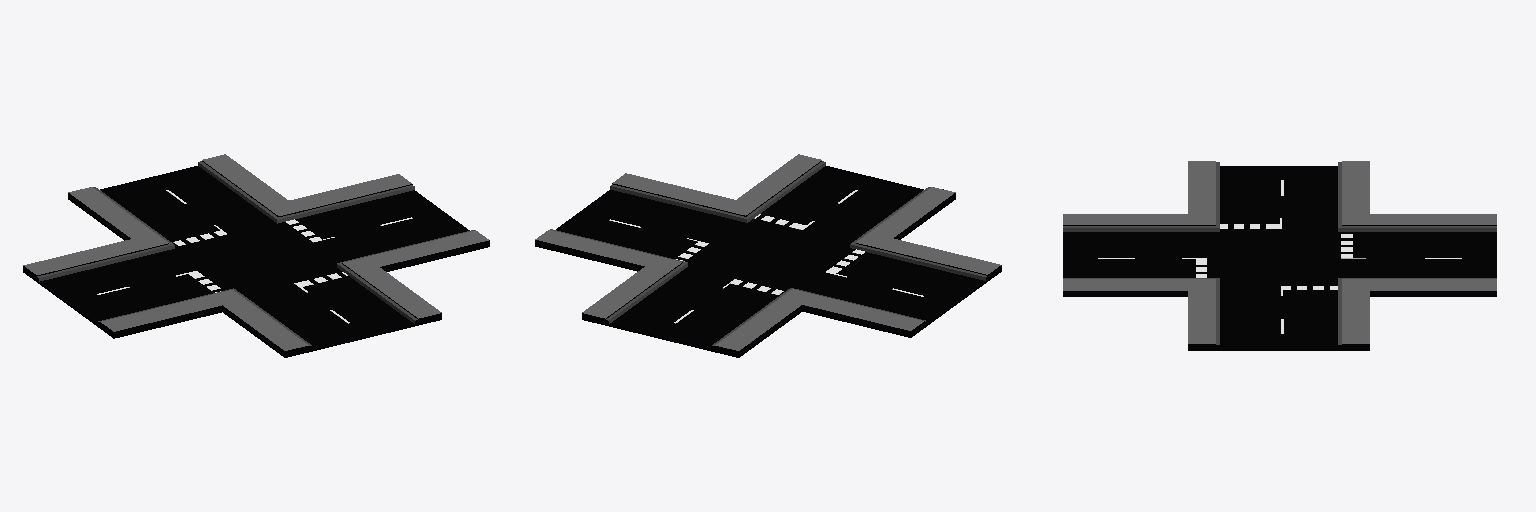
File: road4intersectionCP4.obj
3 renders of one model, left to right at view 1: azimuth 30°, elevation 25°; view 2: azimuth 150°, elevation 25°; view 3: azimuth 270°, elevation 25°, orthographic.
Parts seen in each view (by area): view 1: road001, trot001, borrder, white001; view 2: road001, trot001, borrder, white001; view 3: road001, trot001, borrder, white001.
Boxes of the visible parts, box(x1,y1,x2,y2) form: road001: box(23, 161, 489, 357); trot001: box(23, 154, 488, 350); borrder: box(37, 161, 474, 345); white001: box(97, 190, 412, 323); road001: box(535, 161, 1001, 357); trot001: box(535, 154, 1000, 350); borrder: box(550, 161, 986, 345); white001: box(609, 190, 923, 323); road001: box(1063, 166, 1496, 350); trot001: box(1063, 161, 1496, 343); borrder: box(1063, 162, 1496, 344); white001: box(1098, 180, 1461, 333).
Size of the model in its own units: 239 by 4.22 by 239.